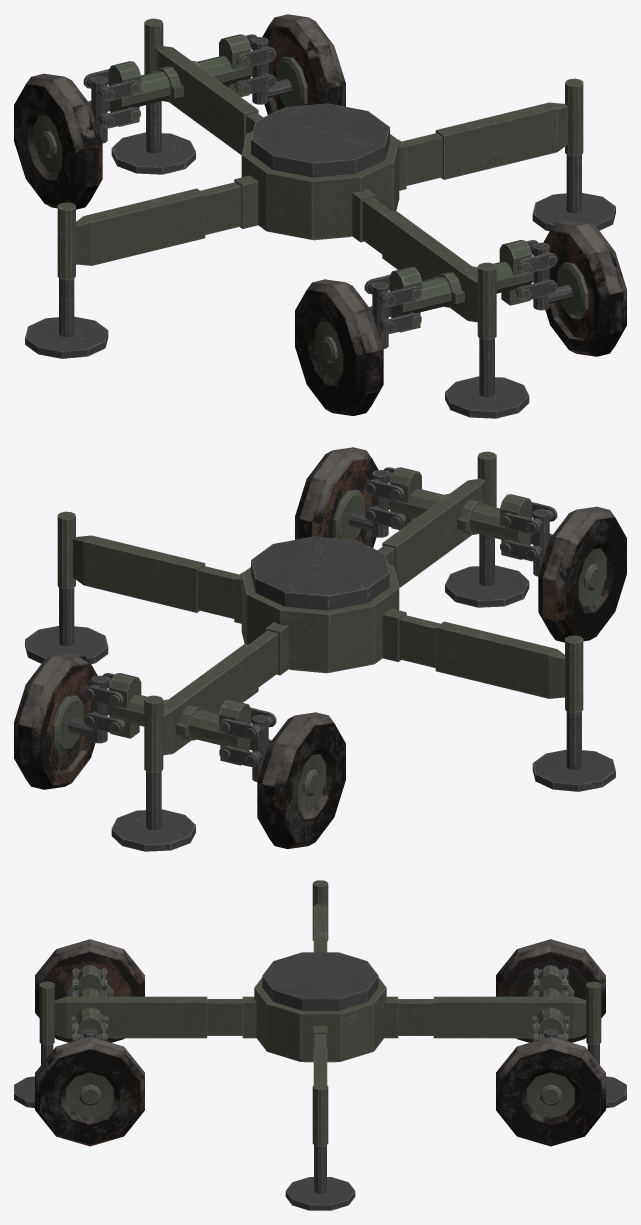
File: Gunmaggedon Revamp Carriage.fbx
The picture shows the model from 3 angles, top to bottom: view 1: azimuth 30°, elevation 25°; view 2: azimuth 150°, elevation 25°; view 3: azimuth 270°, elevation 25°; orthographic projection. The views are drawn at different scales.
Parts seen in each view (by area): view 1: side_support, back_support, fr_wheel, br_wheel, base, fl_wheel, traverse, bl_wheel, f_piston, r_sidepiston, b_piston, l_sidepiston (+10 smaller); view 2: side_support, back_support, br_wheel, fr_wheel, base, bl_wheel, traverse, fl_wheel, b_piston, r_sidepiston, f_piston, l_sidepiston (+10 smaller); view 3: back_support, bl_wheel, fl_wheel, base, traverse, br_wheel, fr_wheel, side_support, l_sidepiston, br_suspension1, fr_suspension1, b_piston (+3 smaller).
Part boxes in pixels (box(x1,y1,x2,y2)): side_support: box(57, 78, 583, 279); back_support: box(144, 18, 496, 339); fr_wheel: box(295, 279, 383, 415); br_wheel: box(14, 73, 102, 209); base: box(241, 131, 399, 240); fl_wheel: box(543, 220, 626, 356); traverse: box(251, 103, 389, 177); bl_wheel: box(262, 14, 345, 114); f_piston: box(445, 338, 529, 418); r_sidepiston: box(25, 278, 108, 358); b_piston: box(111, 101, 195, 174); l_sidepiston: box(532, 154, 615, 231); side_support: box(57, 511, 583, 712); back_support: box(144, 451, 496, 772); br_wheel: box(257, 712, 345, 848); fr_wheel: box(538, 506, 626, 642); base: box(241, 564, 399, 673); bl_wheel: box(14, 653, 97, 789); traverse: box(251, 536, 389, 610); fl_wheel: box(295, 447, 378, 547); b_piston: box(111, 771, 195, 851); r_sidepiston: box(532, 711, 615, 791); f_piston: box(445, 534, 529, 607); l_sidepiston: box(25, 587, 108, 664); back_support: box(39, 981, 601, 1045); bl_wheel: box(496, 1036, 605, 1146); fl_wheel: box(35, 1036, 144, 1146); base: box(254, 977, 386, 1062); traverse: box(262, 952, 378, 1010); br_wheel: box(496, 939, 605, 1042); fr_wheel: box(35, 939, 144, 1042); side_support: box(312, 880, 328, 1146); l_sidepiston: box(285, 1145, 355, 1210); br_suspension1: box(533, 966, 568, 996); fr_suspension1: box(72, 966, 107, 996); b_piston: box(587, 1044, 626, 1108).
Size of the model in its own units: 828 by 200 by 928.
1 material, 1 textured.
